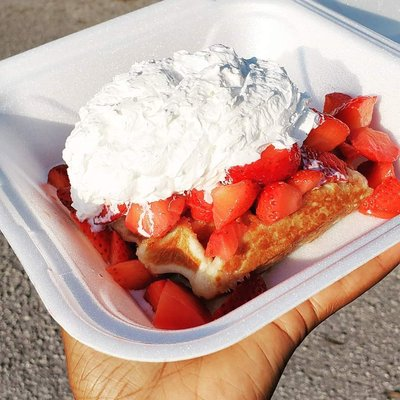sushi: (3, 44, 389, 365)
